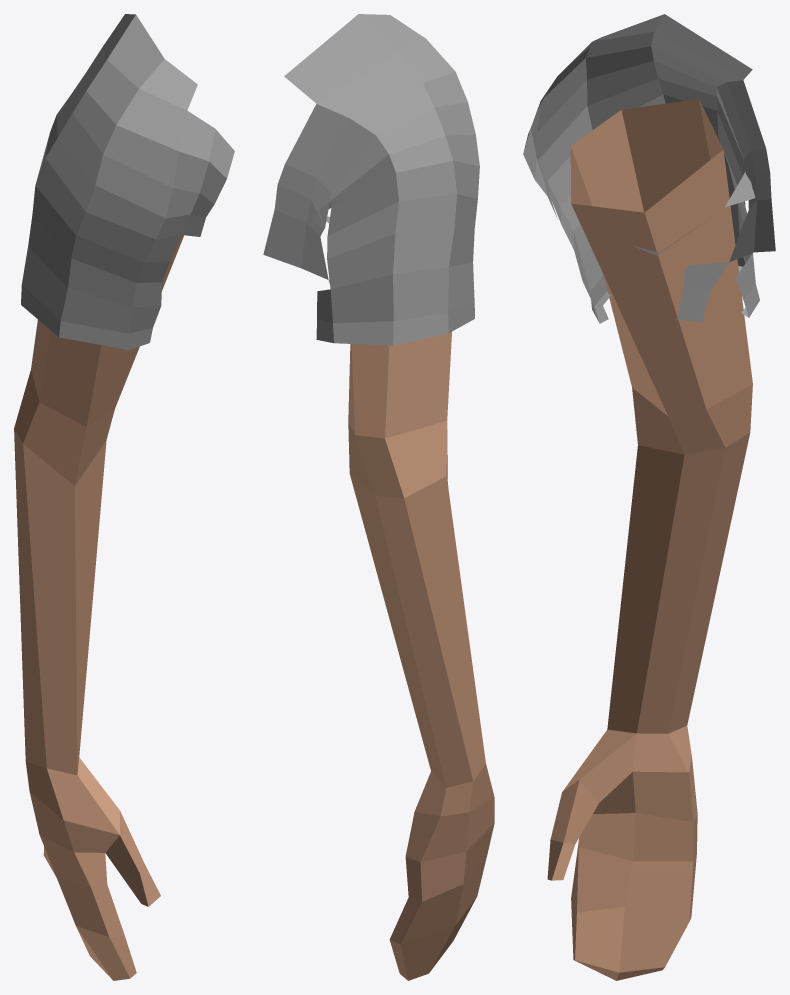
Rendered from arm_derecho.obj.
3 views of the same model, side by side, from view 1: azimuth 30°, elevation 25°; view 2: azimuth 150°, elevation 25°; view 3: azimuth 270°, elevation 25° (orthographic). The views are drawn at different scales.
Parts seen in each view (by area): view 1: Worker.004; view 2: Worker.004; view 3: Worker.004.
Boxes of the visible parts, bbox=[...] form: Worker.004: bbox=[14, 14, 234, 980]; Worker.004: bbox=[263, 14, 494, 980]; Worker.004: bbox=[523, 14, 775, 980].
Bounding box in the file's own units: 0.1352 × 0.8031 × 0.1857.
